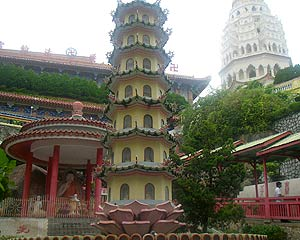Buddhist Temple: (97, 4, 182, 204), (216, 2, 292, 73)
